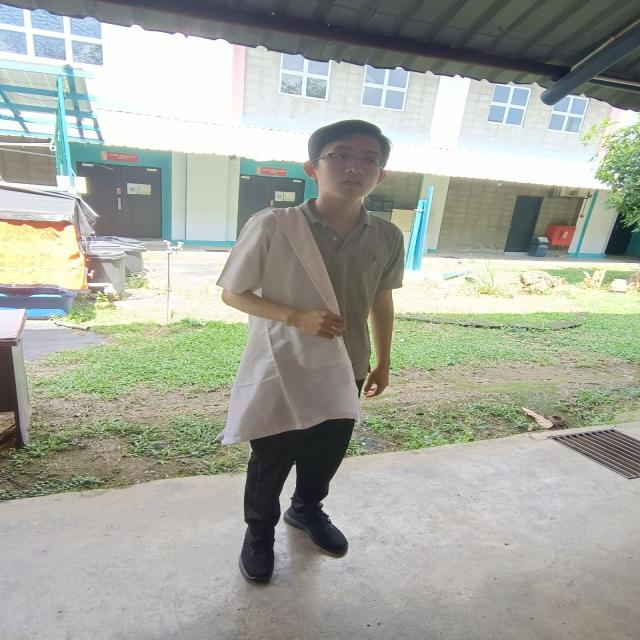person_without_labcoat: (218, 120, 403, 580)
